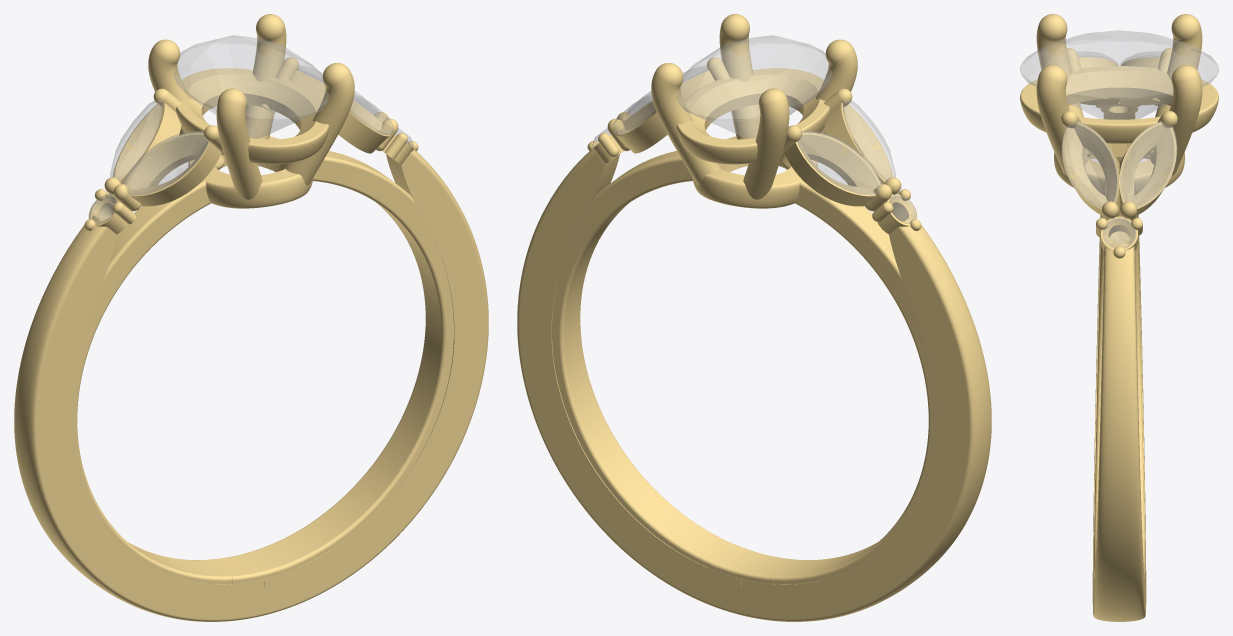
3 views of the same model, side by side, from view 1: azimuth 30°, elevation 25°; view 2: azimuth 150°, elevation 25°; view 3: azimuth 270°, elevation 25° (orthographic).
Visible parts, largest first — view 1: metal, stone; view 2: metal, stone; view 3: metal, stone.
Boxes of the visible parts, x1,y1,x2,y2 form: metal: (14,14,488,621); stone: (89,35,413,223); metal: (517,14,991,621); stone: (592,35,916,223); metal: (1020,14,1218,621); stone: (1020,30,1218,248).
Bounding box in the file's own units: 0.022 × 0.0253 × 0.0082.
